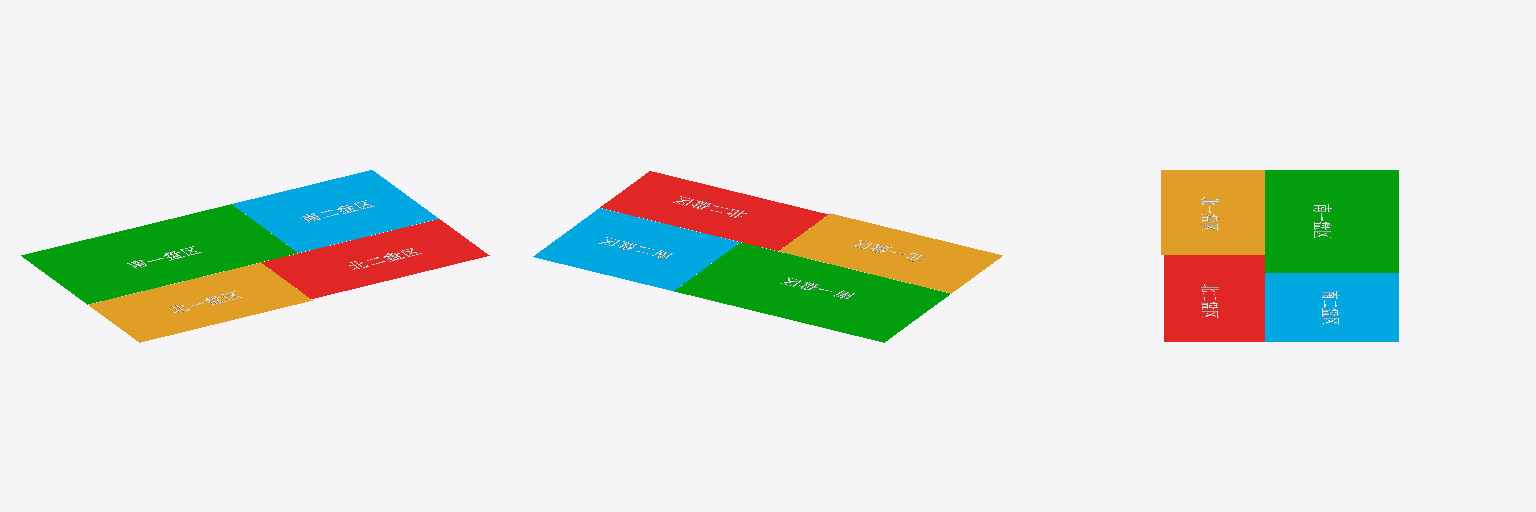
Rendered from fenqu.obj.
3 renders of one model, left to right at view 1: azimuth 30°, elevation 25°; view 2: azimuth 150°, elevation 25°; view 3: azimuth 270°, elevation 25°, orthographic.
Visible parts, largest first — view 1: pasted__group4 group pasted__group3 pasted__polySurface3, pasted__group4 group pasted__group3 pasted__polySurface2, pasted__group4 group pasted__group3 pasted__polySurface4, pasted__group4 group pasted__polySurface1 pasted__group3; view 2: pasted__group4 group pasted__group3 pasted__polySurface3, pasted__group4 group pasted__group3 pasted__polySurface2, pasted__group4 group pasted__group3 pasted__polySurface4, pasted__group4 group pasted__polySurface1 pasted__group3; view 3: pasted__group4 group pasted__group3 pasted__polySurface3, pasted__group4 group pasted__group3 pasted__polySurface2, pasted__group4 group pasted__group3 pasted__polySurface4, pasted__group4 group pasted__polySurface1 pasted__group3.
Boxes of the visible parts, x1,y1,x2,y2 form: pasted__group4 group pasted__group3 pasted__polySurface3: [21, 204, 296, 304]; pasted__group4 group pasted__group3 pasted__polySurface2: [232, 170, 438, 252]; pasted__group4 group pasted__group3 pasted__polySurface4: [89, 263, 312, 342]; pasted__group4 group pasted__polySurface1 pasted__group3: [261, 219, 489, 298]; pasted__group4 group pasted__group3 pasted__polySurface3: [674, 242, 949, 342]; pasted__group4 group pasted__group3 pasted__polySurface2: [533, 208, 739, 290]; pasted__group4 group pasted__group3 pasted__polySurface4: [779, 213, 1002, 293]; pasted__group4 group pasted__polySurface1 pasted__group3: [600, 171, 828, 250]; pasted__group4 group pasted__group3 pasted__polySurface3: [1265, 170, 1398, 272]; pasted__group4 group pasted__group3 pasted__polySurface2: [1265, 273, 1398, 341]; pasted__group4 group pasted__group3 pasted__polySurface4: [1161, 170, 1264, 254]; pasted__group4 group pasted__polySurface1 pasted__group3: [1164, 255, 1264, 341].
Bounding box in the file's own units: 834 × 1.36 × 489.